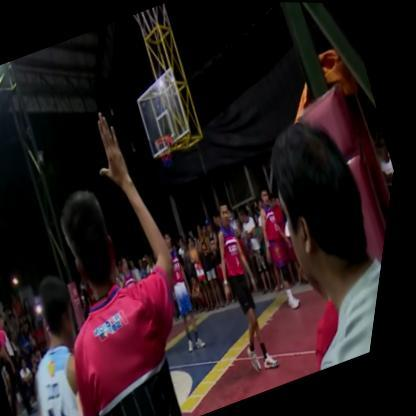rim: (150, 130, 190, 178)
